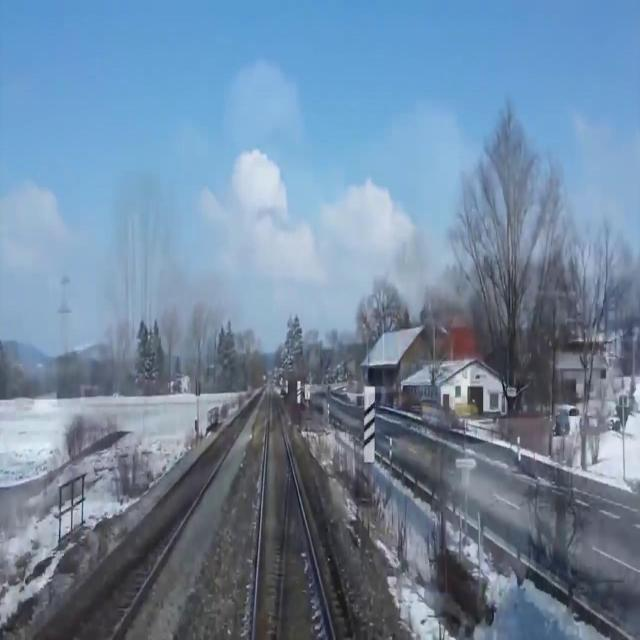rail-track: (36, 404, 251, 639), (256, 384, 330, 639)
